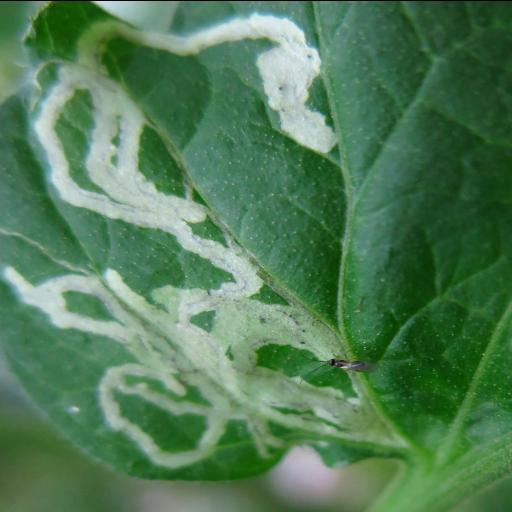disease_tomato: (0, 0, 412, 479)
